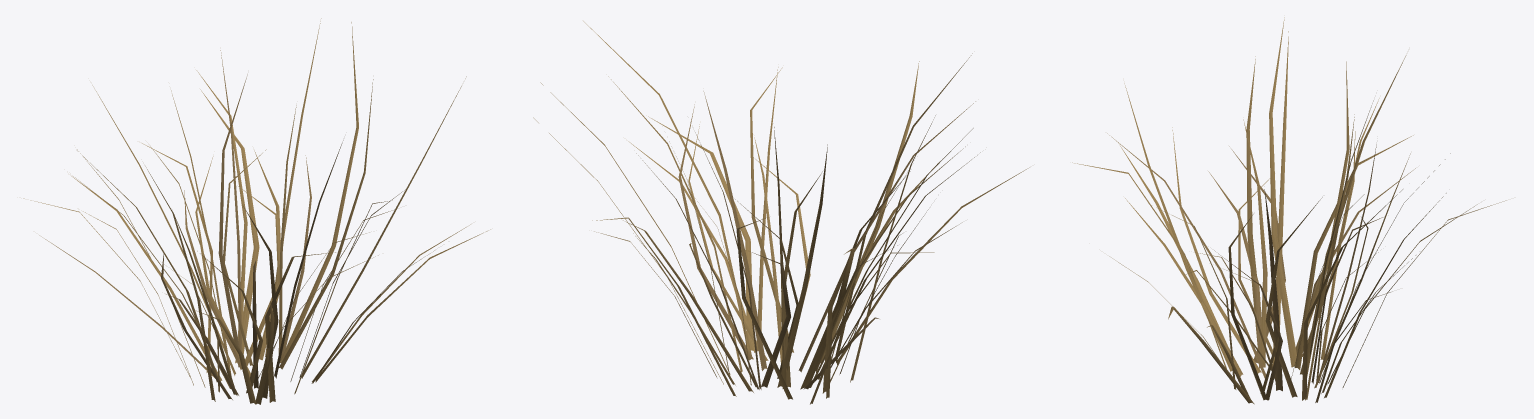
Rendered from SM_CN_Grass_A_LOD1.fbx.
3 views of the same model, side by side, from view 1: azimuth 30°, elevation 25°; view 2: azimuth 150°, elevation 25°; view 3: azimuth 270°, elevation 25° (orthographic). The views are drawn at different scales.
Visible parts, largest first — view 1: SM_CN_Grass_A_LOD1; view 2: SM_CN_Grass_A_LOD1; view 3: SM_CN_Grass_A_LOD1.
Boxes of the visible parts, x1,y1,x2,y2 form: SM_CN_Grass_A_LOD1: [23, 18, 490, 404]; SM_CN_Grass_A_LOD1: [533, 21, 1029, 404]; SM_CN_Grass_A_LOD1: [1072, 17, 1506, 404].
Bounding box in the file's own units: 0.62 × 0.6194 × 0.43.
